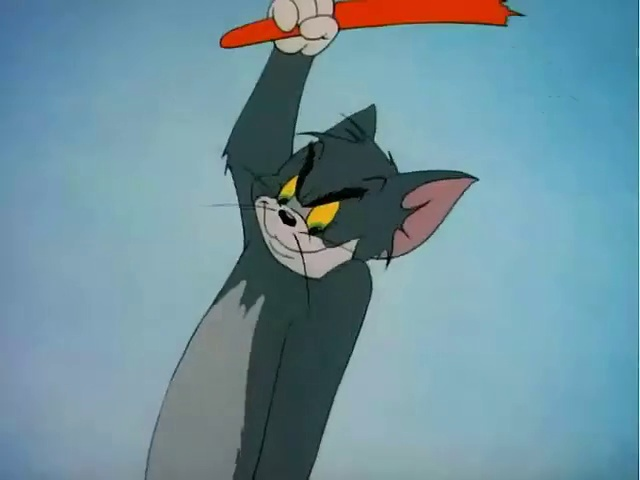tom: (138, 12, 478, 477)
